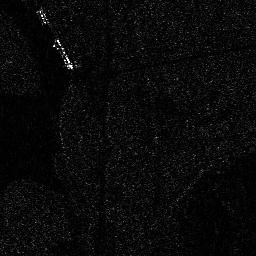ship: (53, 37, 74, 71)
